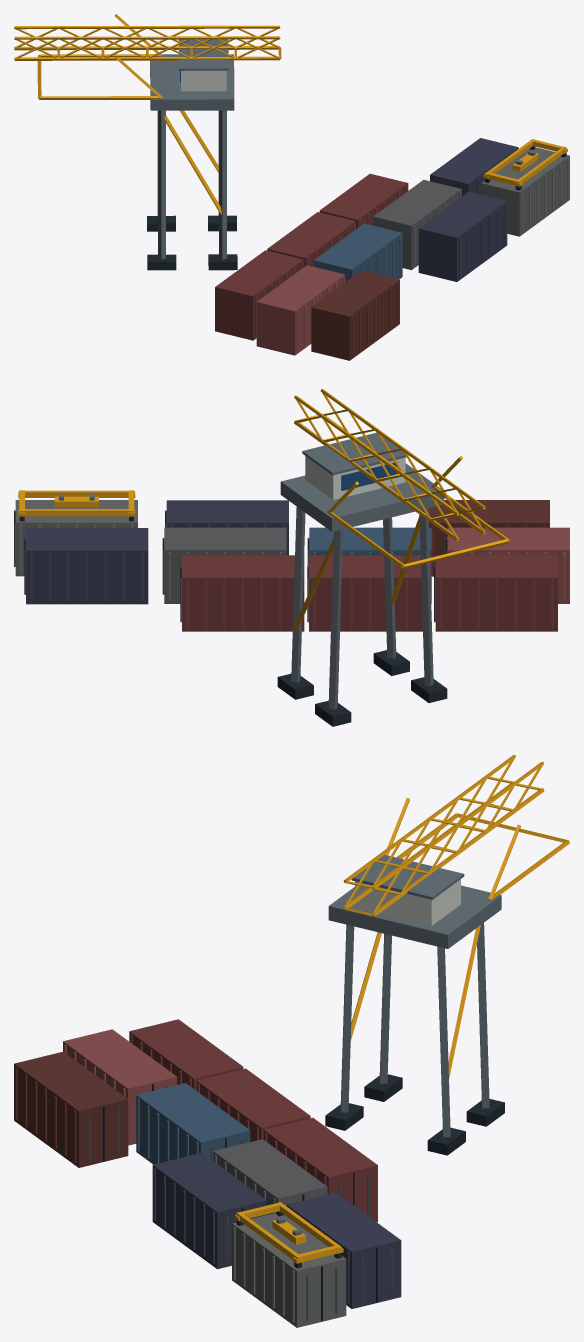
File: gantry-crane-ne-sw-08.glb
3 renders of one model, top to bottom at view 1: azimuth 30°, elevation 25°; view 2: azimuth 150°, elevation 25°; view 3: azimuth 270°, elevation 25°, orthographic. The views are drawn at different scales.
Visible parts, largest first — view 1: gantry-crane-ne-sw-08; view 2: gantry-crane-ne-sw-08; view 3: gantry-crane-ne-sw-08.
Boxes of the visible parts, bbox=[...] form: gantry-crane-ne-sw-08: bbox=[14, 14, 569, 360]; gantry-crane-ne-sw-08: bbox=[14, 389, 569, 726]; gantry-crane-ne-sw-08: bbox=[14, 755, 569, 1327].
Bounding box in the file's own units: 71.31 × 31.18 × 56.6.
